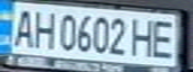0: (54, 10, 78, 52), (90, 12, 112, 55)
2: (106, 15, 130, 56)
6: (75, 11, 93, 53)
A: (6, 6, 36, 48)
E: (148, 17, 181, 59)
H: (127, 16, 160, 58), (30, 7, 57, 51)
